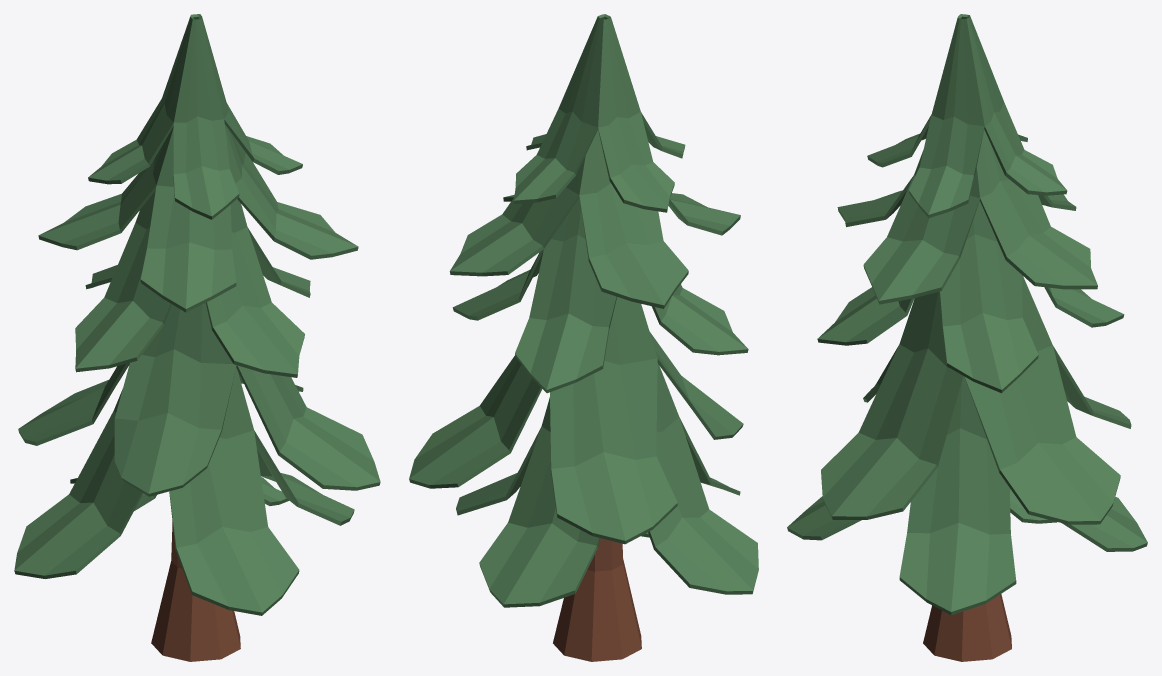
The model's file is agac2.fbx.
3 views of the same model, side by side, from view 1: azimuth 30°, elevation 25°; view 2: azimuth 150°, elevation 25°; view 3: azimuth 270°, elevation 25° (orthographic).
Parts seen in each view (by area): view 1: Plane.001; view 2: Plane.001; view 3: Plane.001.
Part boxes in pixels (bbox=[...]): Plane.001: bbox=[14, 14, 380, 661]; Plane.001: bbox=[409, 14, 758, 661]; Plane.001: bbox=[787, 14, 1147, 661].
Size of the model in its own units: 532 by 1007 by 527.
